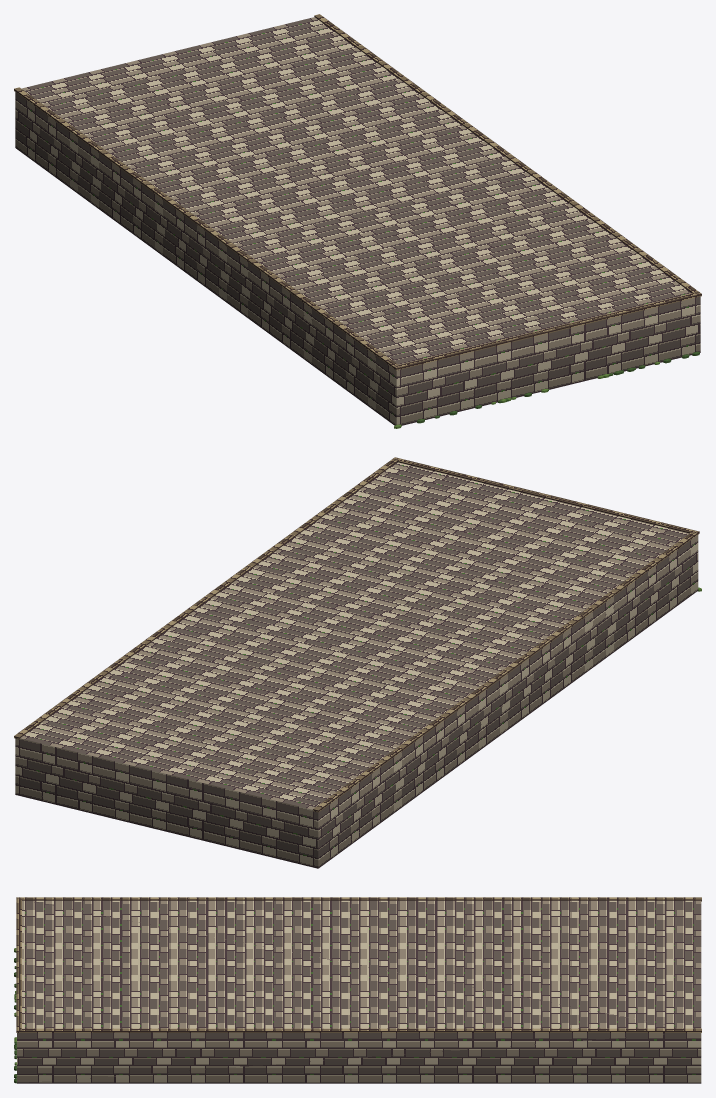
The model's file is scene_wall_w.glb.
3 renders of one model, top to bottom at view 1: azimuth 30°, elevation 25°; view 2: azimuth 150°, elevation 25°; view 3: azimuth 270°, elevation 25°, orthographic. The views are drawn at different scales.
Visible parts, largest first — view 1: scene_wall_w; view 2: scene_wall_w; view 3: scene_wall_w.
Part boxes in pixels (x1,y1,x2,y2): scene_wall_w: (14,14,701,428); scene_wall_w: (14,457,701,868); scene_wall_w: (14,897,701,1083).
Size of the model in its own units: 20.05 by 3.77 by 43.24.
Materials: 2 (1 with a texture image).
